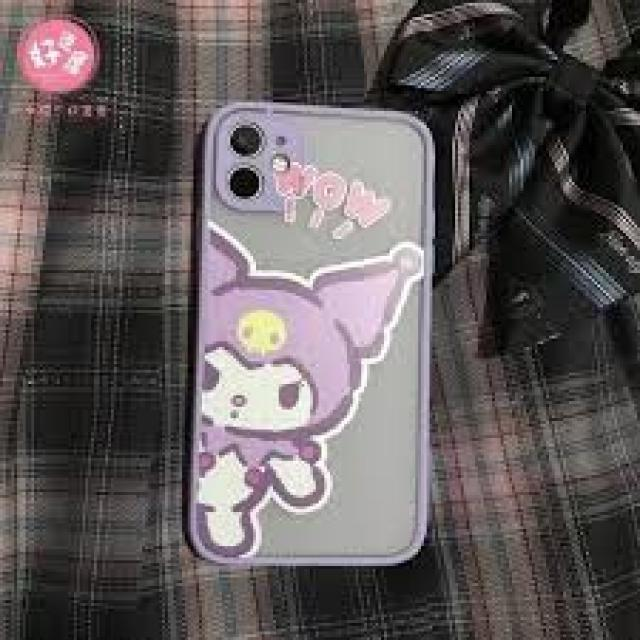lens: (227, 119, 293, 207)
phone: (187, 99, 436, 570)
